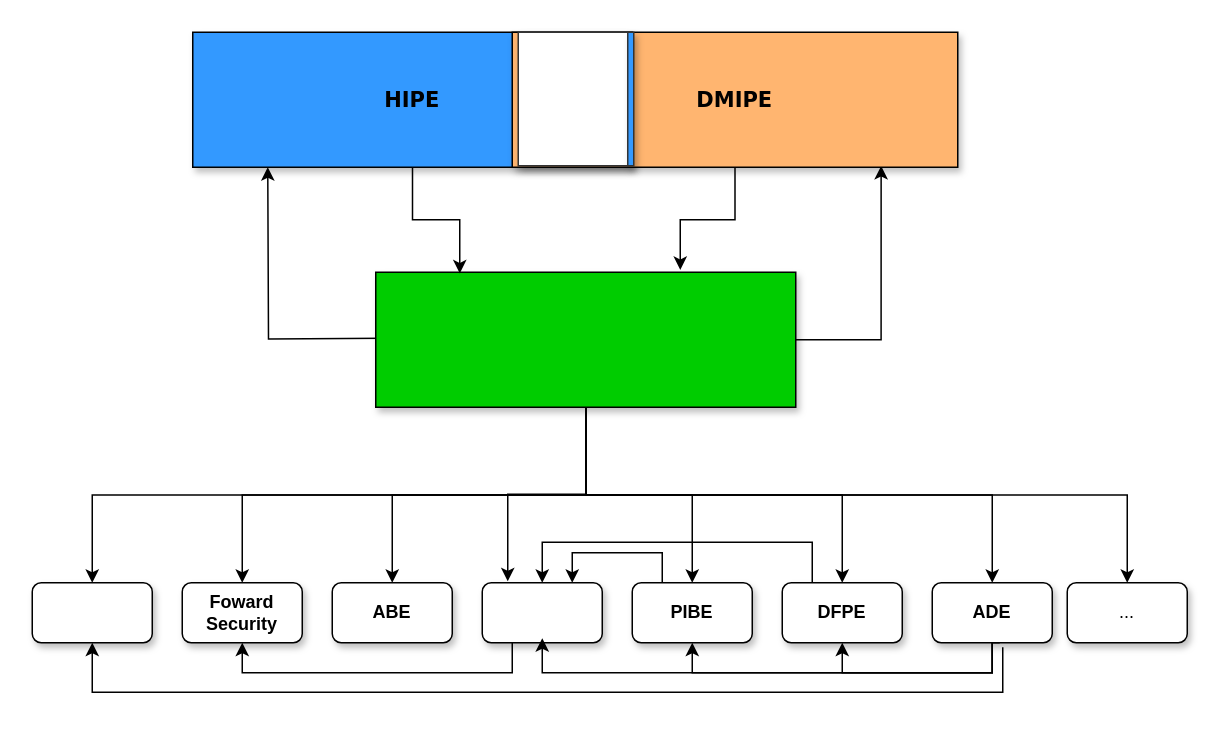
This 1223x731 diagram has some shape labels left out. Here are the shapes that lost their labels. From the top down, the centre of each, then its label:
[574,100]: IPE
[586,341]: Spatial Encryption (SE)
[93,614]: (H)IBE
[543,614]: PE
